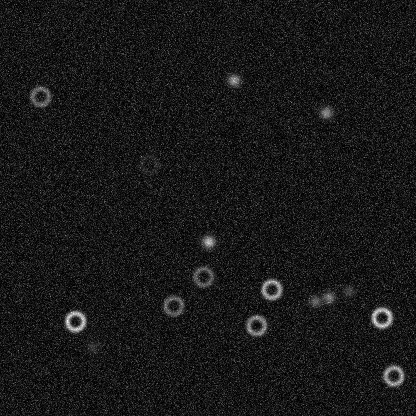Ring: (137, 152, 161, 176), (63, 309, 87, 333), (259, 277, 283, 301), (244, 313, 268, 337), (381, 363, 405, 387), (369, 305, 393, 329), (191, 264, 215, 288), (28, 84, 52, 108), (161, 293, 185, 317)
Spot: (84, 338, 100, 354), (200, 233, 216, 249), (340, 282, 356, 298), (225, 72, 241, 88), (320, 289, 336, 305), (307, 293, 323, 309), (317, 104, 333, 120)
